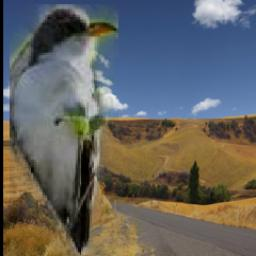Cuckoo: (10, 5, 118, 256)
